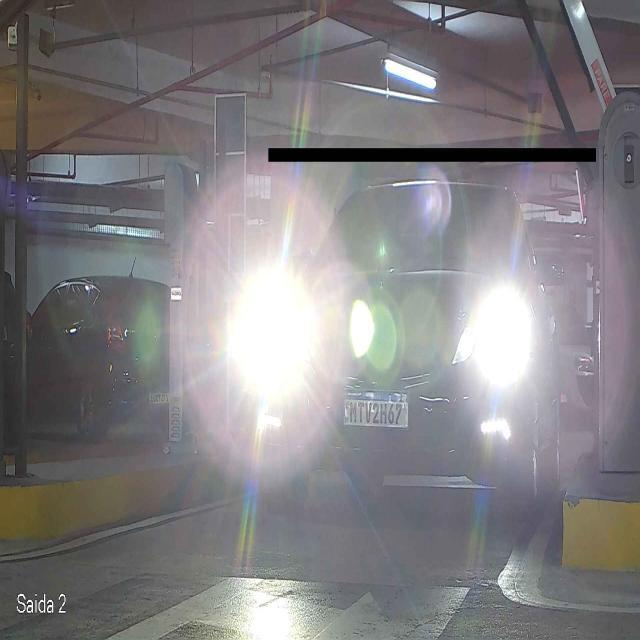mercosul_plate: (342, 389, 411, 430)
